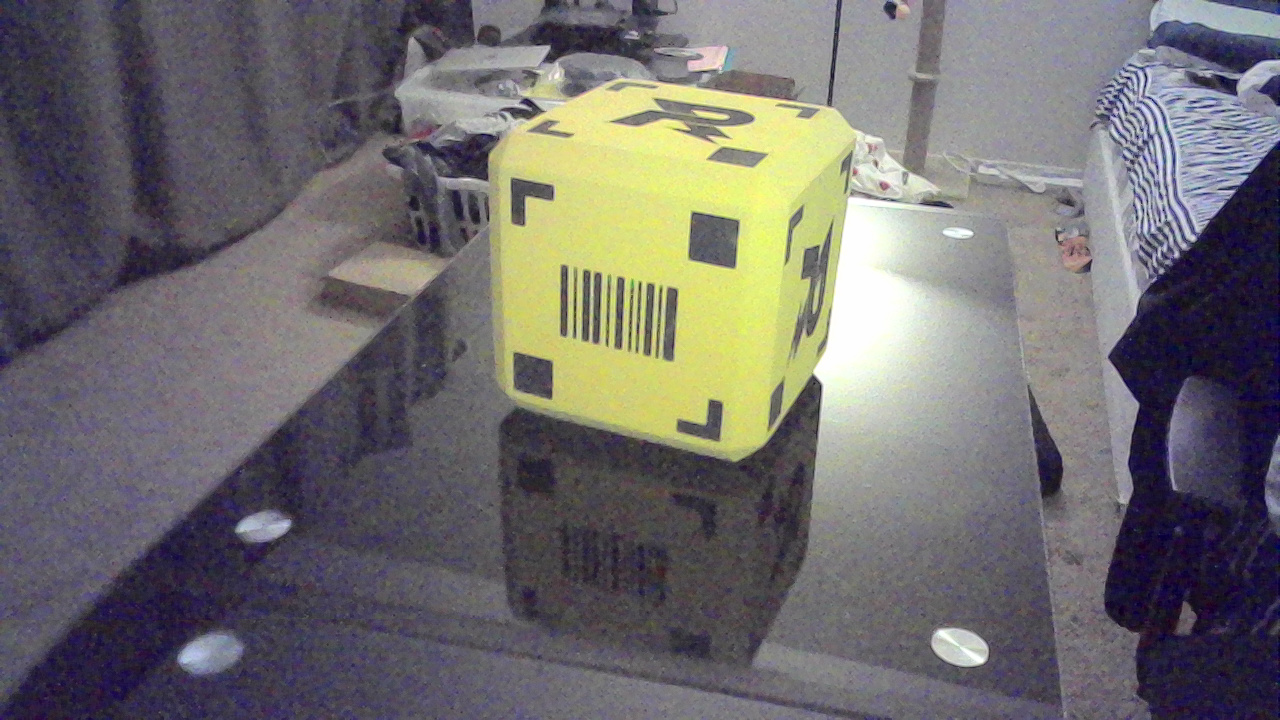Barcode: (566, 268, 691, 374)
R: (618, 94, 778, 165), (789, 231, 837, 367)
